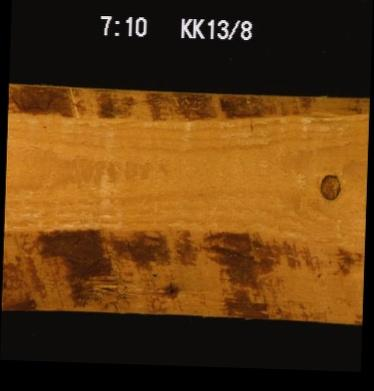dry_knot: (316, 171, 340, 200)
wave: (1, 228, 362, 314), (7, 90, 366, 123)
